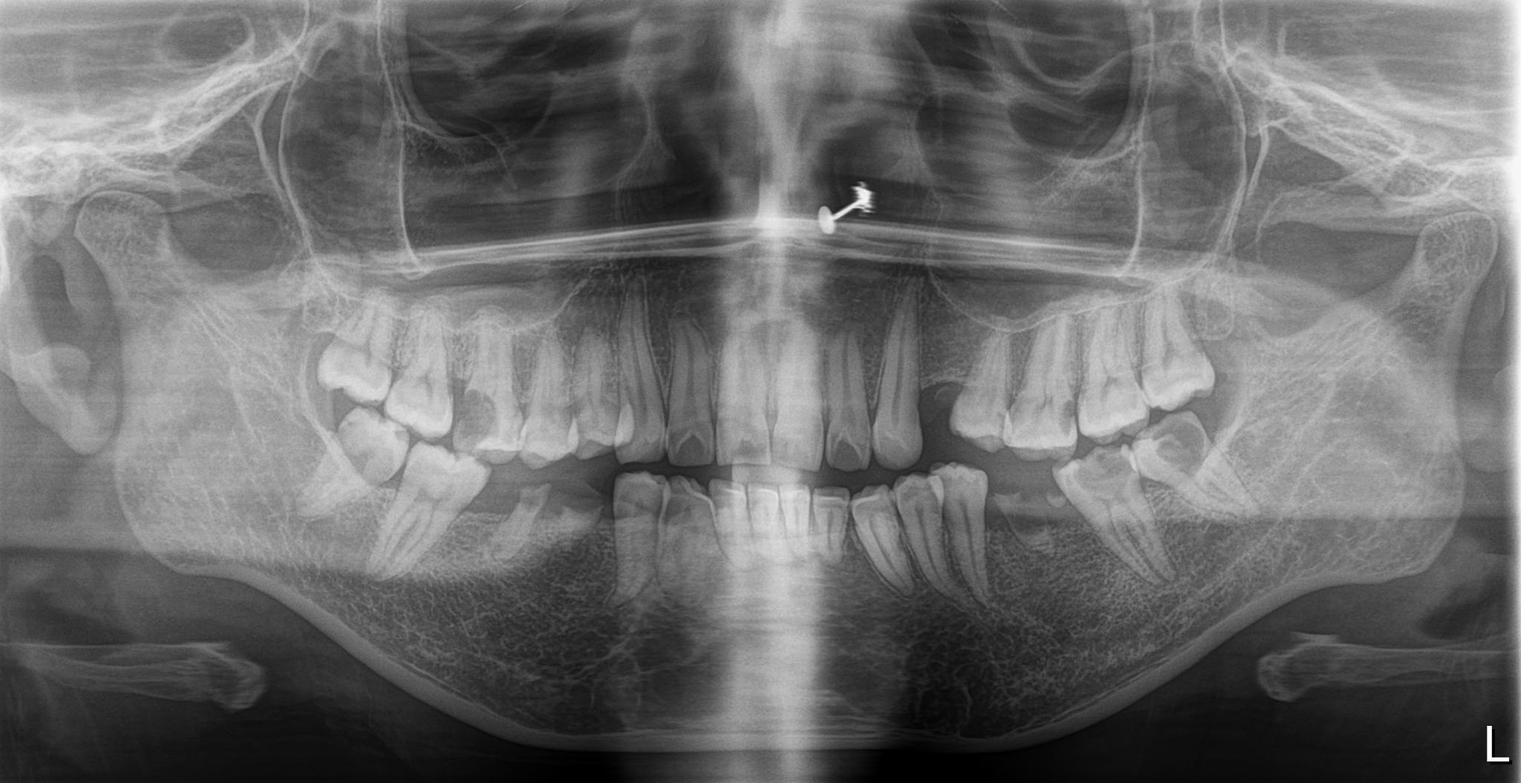Dental Caries: (1142, 427, 1213, 490), (1010, 390, 1082, 440), (455, 384, 506, 446), (1073, 458, 1140, 505), (828, 432, 871, 473), (668, 430, 714, 465), (732, 436, 773, 458)
Missing Tooth: (926, 308, 969, 441)
Retained Root: (995, 482, 1072, 590), (518, 481, 559, 576)
